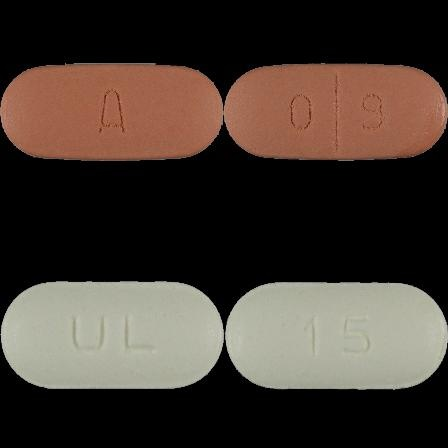63629-3326: (0, 0, 224, 224)
